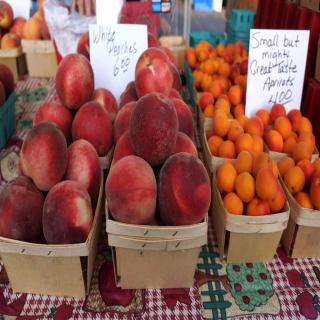Apple: (0, 16, 212, 244), (21, 118, 68, 188), (49, 54, 96, 113), (0, 0, 51, 51), (0, 64, 16, 96), (0, 81, 7, 108)
Peach: (0, 30, 212, 244), (0, 0, 53, 47), (0, 63, 14, 95), (0, 82, 6, 105)
